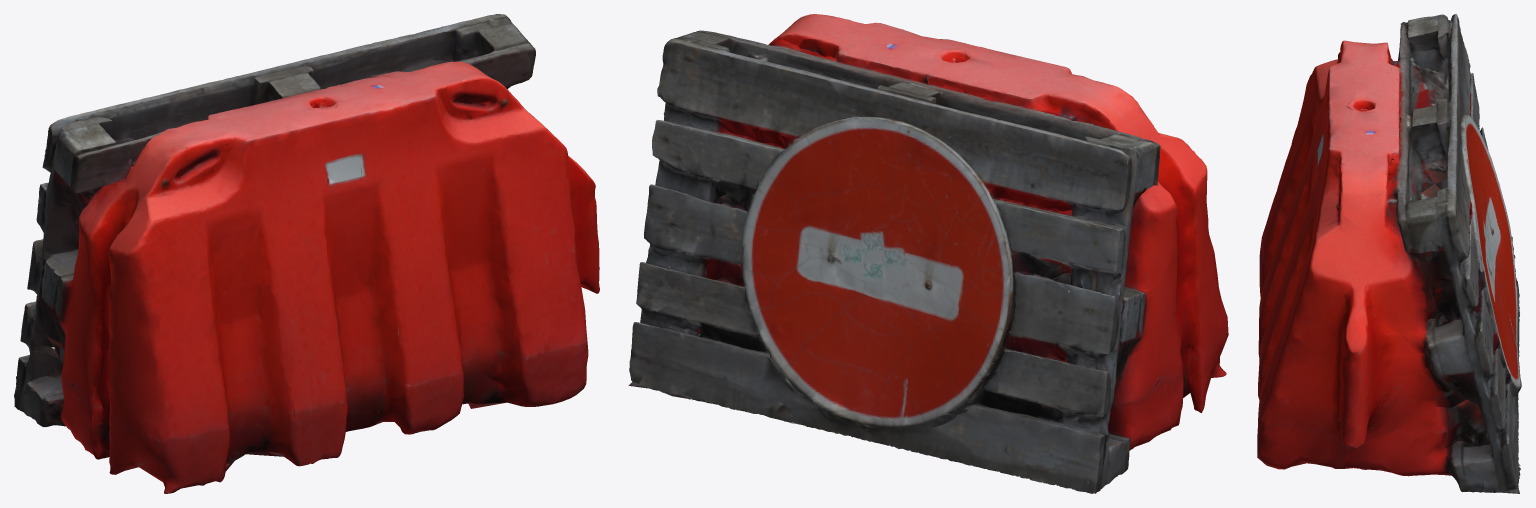
Rendered from Red_barricade.fbx.
3 views of the same model, side by side, from view 1: azimuth 30°, elevation 25°; view 2: azimuth 150°, elevation 25°; view 3: azimuth 270°, elevation 25° (orthographic). The views are drawn at different scales.
Visible parts, largest first — view 1: meshNode_1; view 2: meshNode_1; view 3: meshNode_1.
Part boxes in pixels (box(x1,y1,x2,y2)): meshNode_1: box(14, 14, 599, 493); meshNode_1: box(628, 14, 1228, 493); meshNode_1: box(1257, 14, 1521, 493).
Size of the model in its own units: 18.52 by 11.28 by 9.44.
Materials: 1 (1 with a texture image).
